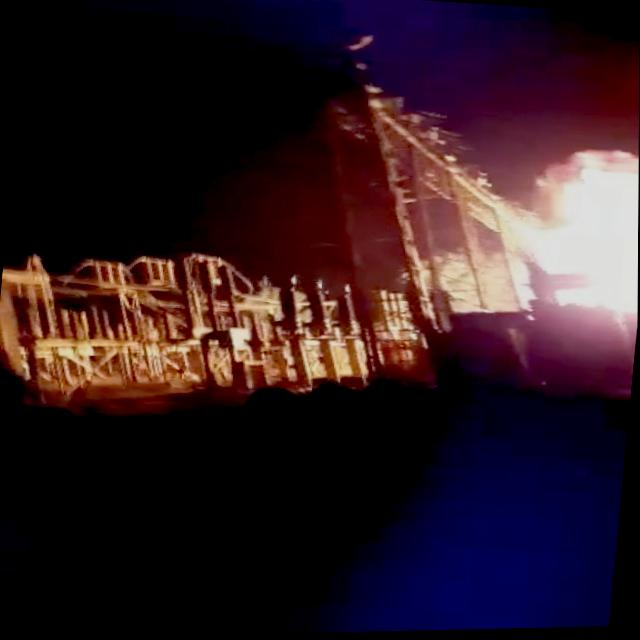Fire: (496, 137, 639, 327)
